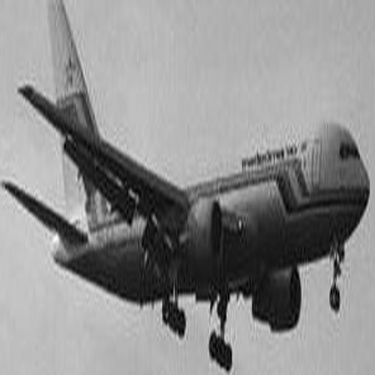airplane: (3, 6, 372, 372)
